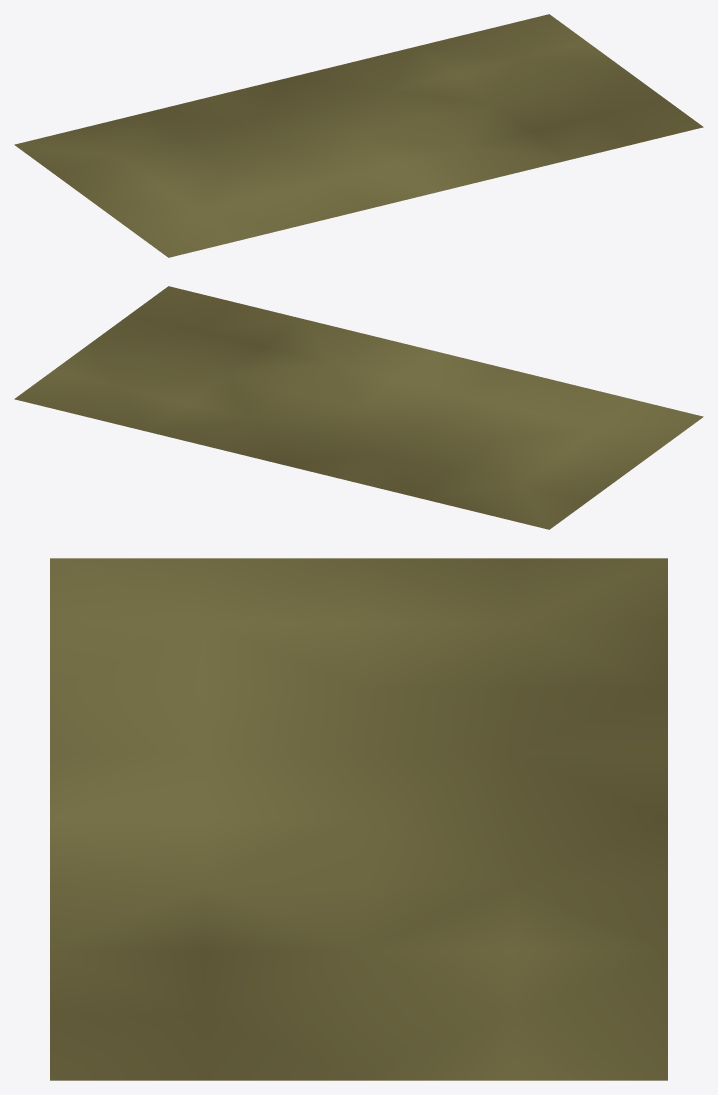
File: terrain_lod2_-4_7.obj
3 renders of one model, top to bottom at view 1: azimuth 30°, elevation 25°; view 2: azimuth 150°, elevation 25°; view 3: azimuth 270°, elevation 25°, orthographic. The views are drawn at different scales.
Visible parts, largest first — view 1: terrain_lod2_-4_7; view 2: terrain_lod2_-4_7; view 3: terrain_lod2_-4_7.
Part boxes in pixels (x1,y1,x2,y2): terrain_lod2_-4_7: (14,14,703,257); terrain_lod2_-4_7: (14,286,703,529); terrain_lod2_-4_7: (50,558,667,1080).
Bounding box in the file's own units: 128 × 0 × 64.
